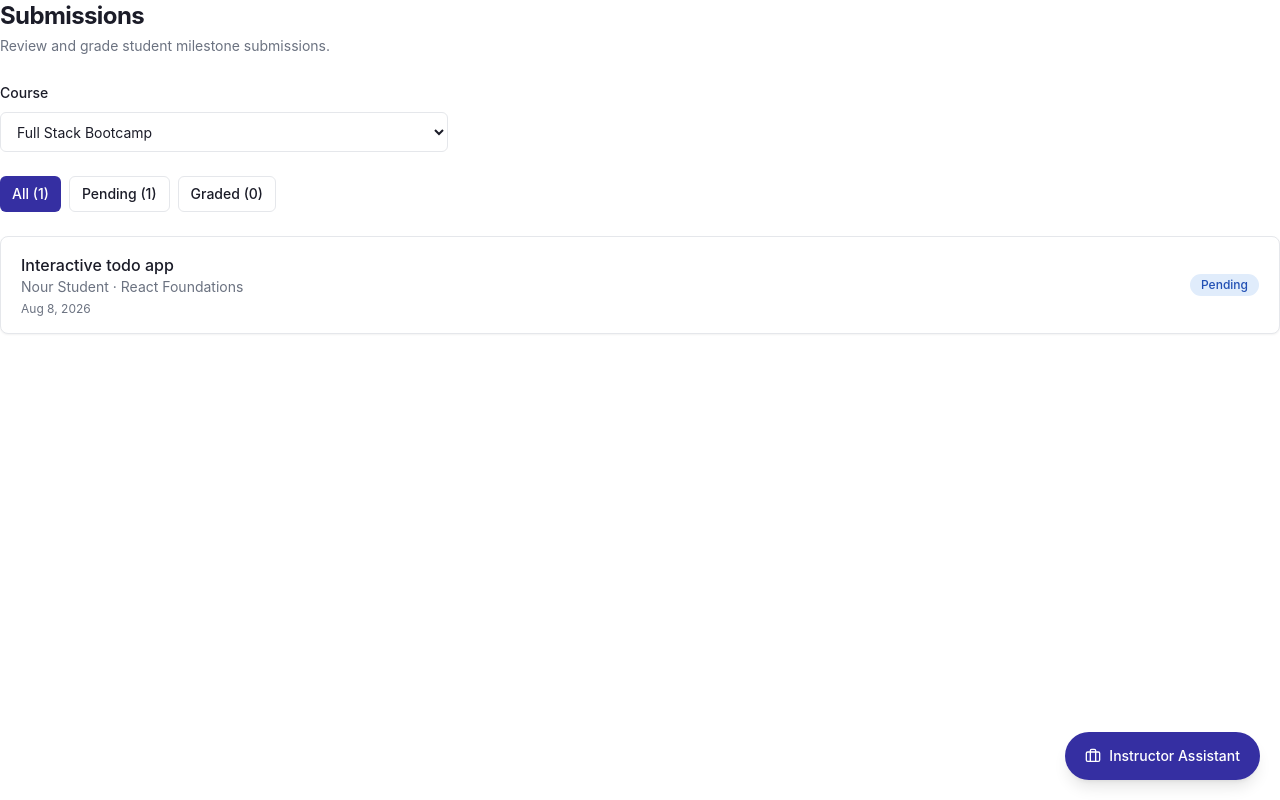
SubmissionsPage › uses the selected trusted course for the Instructor Assistant
This screenshot has width=1280, height=800.
Check: the text "Nour Student · React Foundations" is shown, box [21, 277, 243, 297]
Click the button with aria-label "Open Instructor Assistant" at coordinates (1163, 756), box [1065, 732, 1260, 780]
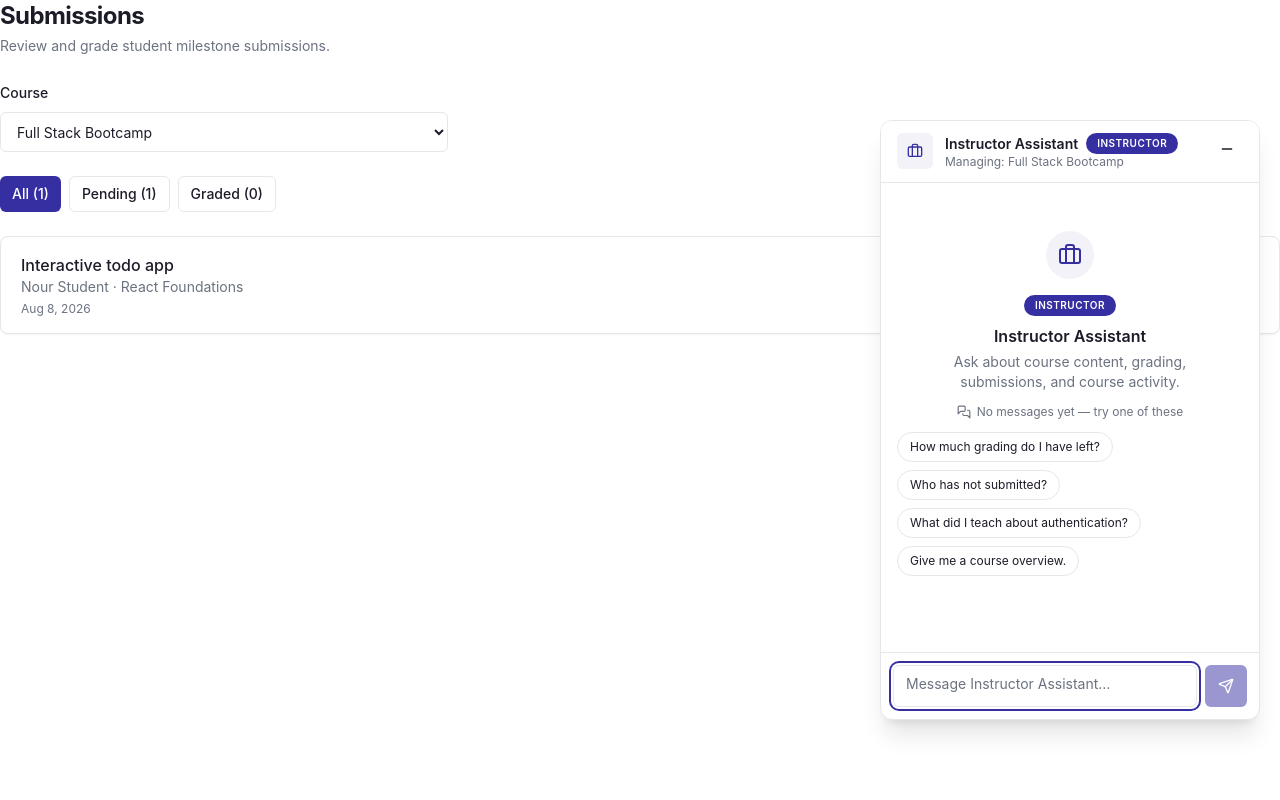
Type "What needs grading?" into the text box labelled "Message Instructor Assistant" at coordinates (1045, 686), box [893, 665, 1197, 707]
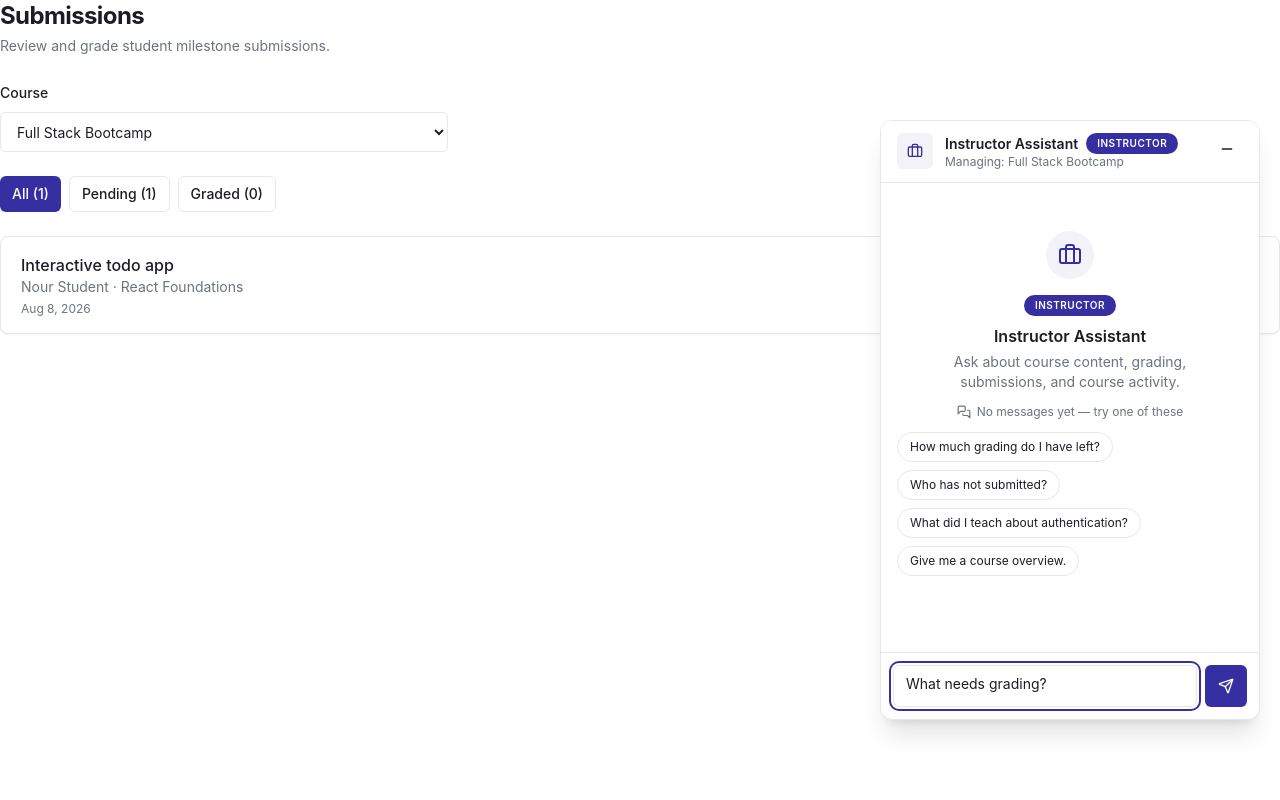
Click the button named "Send message" at coordinates (1226, 686), box [1205, 665, 1247, 707]
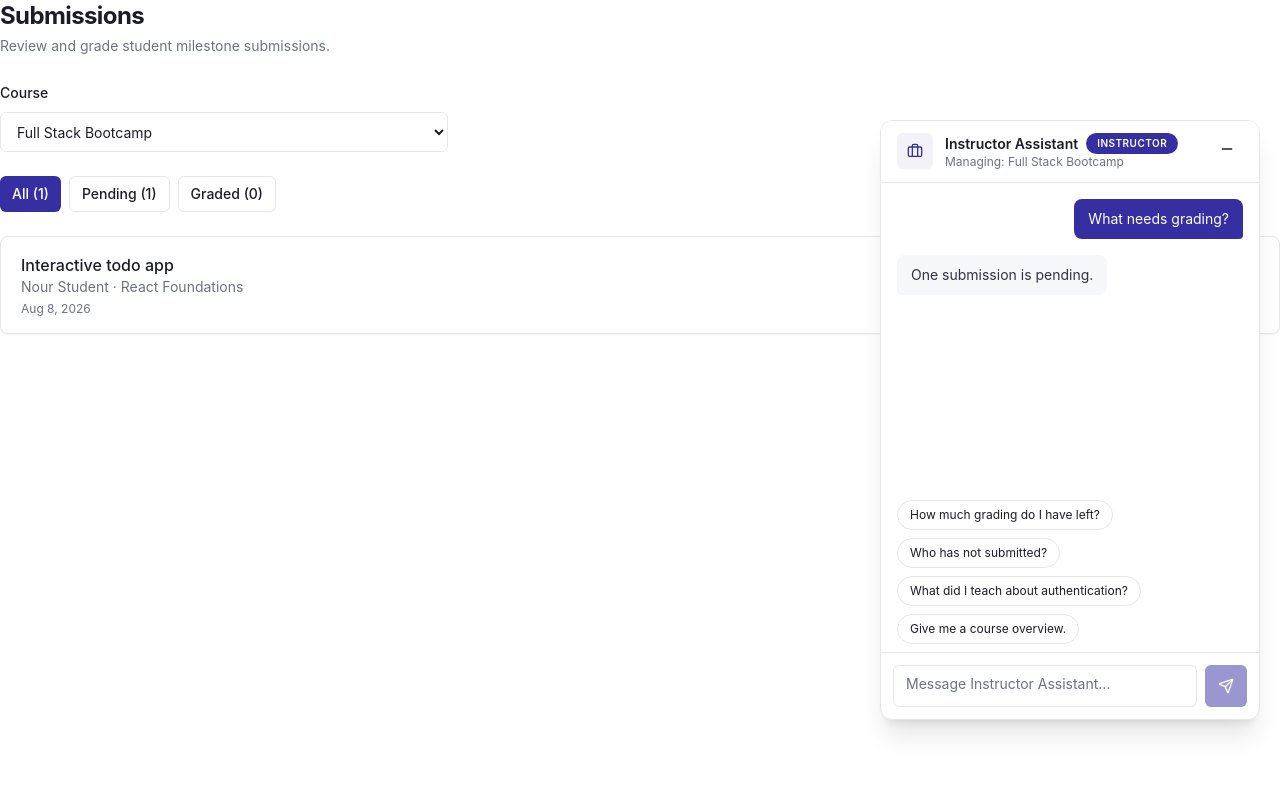
Check: the text "One submission is pending." is shown, box [897, 255, 1107, 295]
